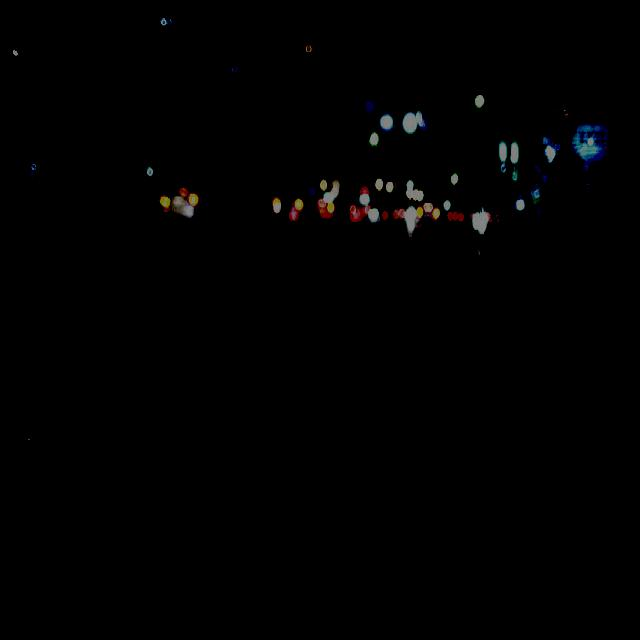Dog: (302, 218, 409, 560)
